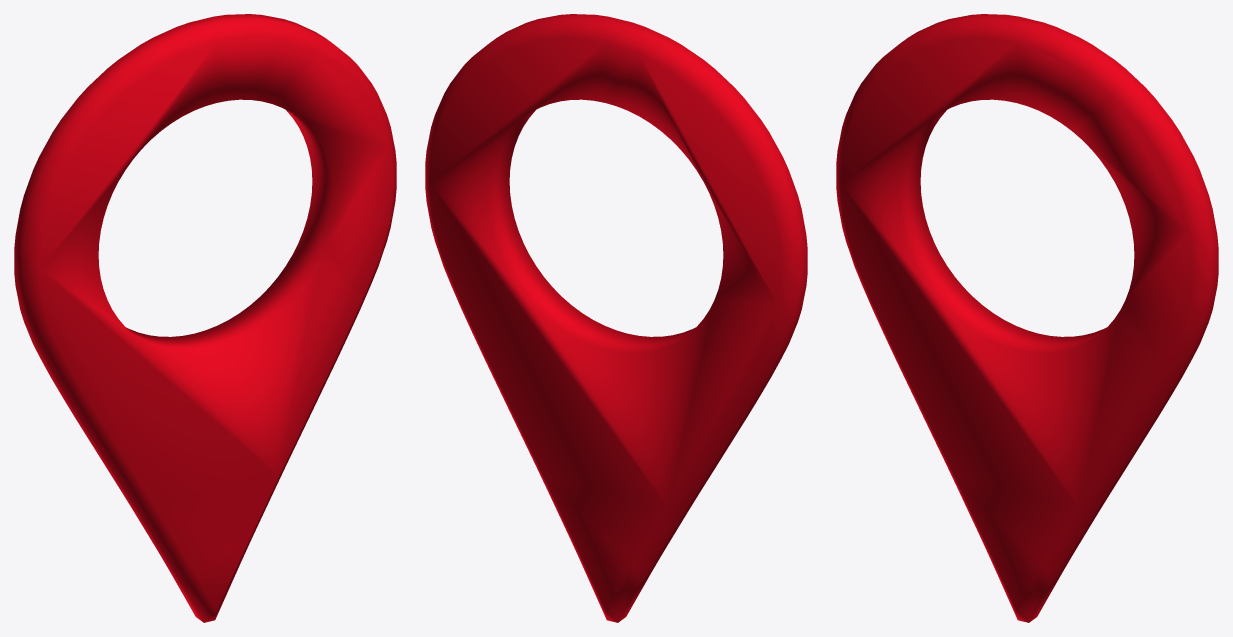
File: LocationMarker.glb
3 views of the same model, side by side, from view 1: azimuth 30°, elevation 25°; view 2: azimuth 150°, elevation 25°; view 3: azimuth 330°, elevation 25° (orthographic).
Parts seen in each view (by area): view 1: Circle; view 2: Circle; view 3: Circle.
Boxes of the visible parts, x1=… form: Circle: x1=14, y1=14, x2=396, y2=622; Circle: x1=425, y1=14, x2=807, y2=622; Circle: x1=836, y1=14, x2=1218, y2=622.
Size of the model in its own units: 1.99 by 3.03 by 0.2037.
